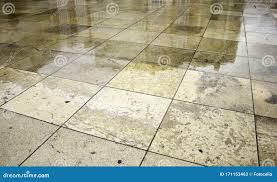Wet-floor: (0, 1, 277, 149)
